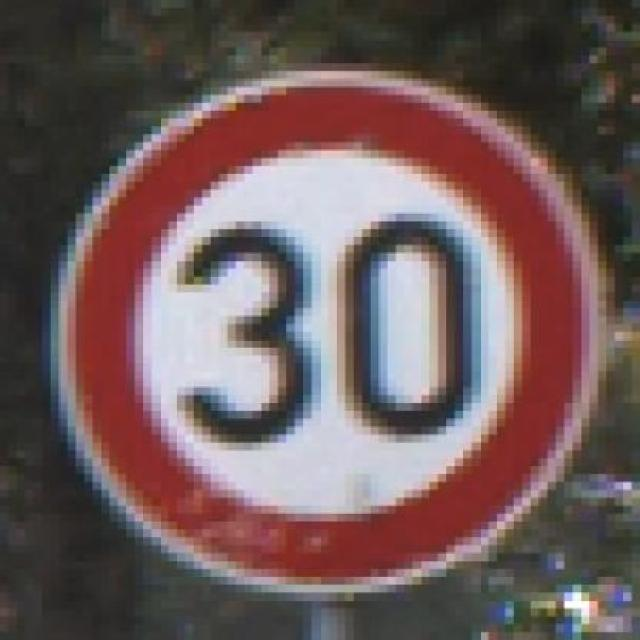Speed Limit 30 KMPh: (26, 39, 632, 608)
